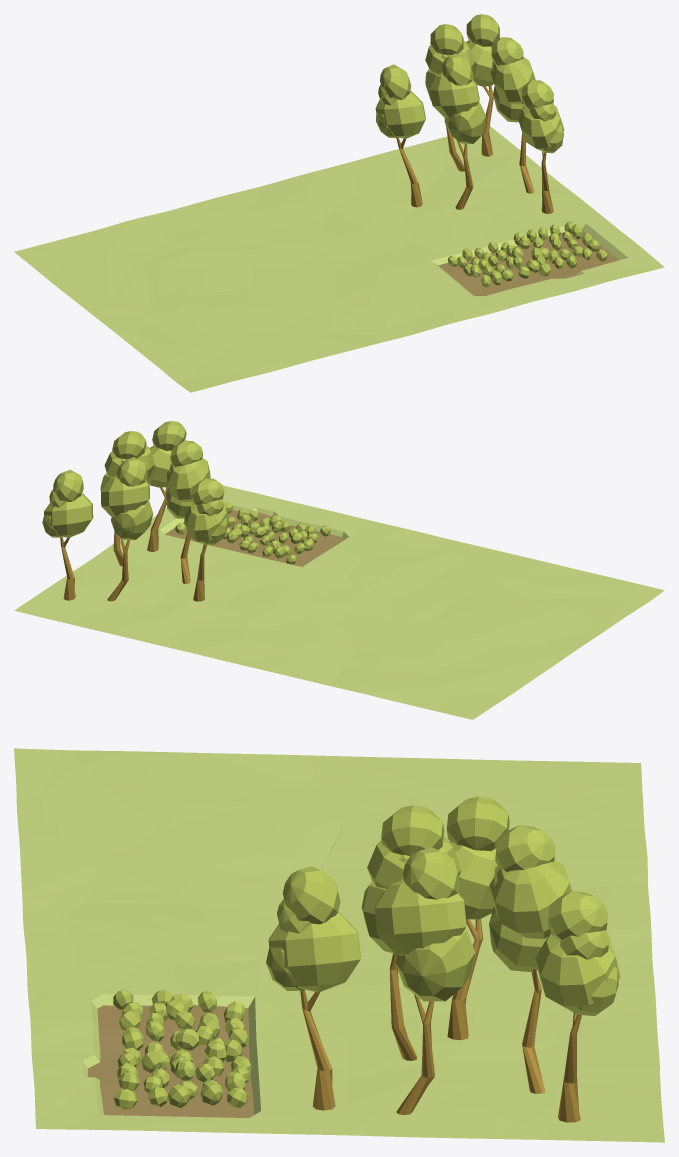
Rendered from garden(with tree).glb.
The picture shows the model from 3 angles, top to bottom: view 1: azimuth 30°, elevation 25°; view 2: azimuth 150°, elevation 25°; view 3: azimuth 270°, elevation 25°; orthographic projection. The views are drawn at different scales.
Visible parts, largest first — view 1: Sphere_1_1; view 2: Sphere_1_1; view 3: Sphere_1_1.
Boxes of the visible parts, box(x1,y1,x2,y2) form: Sphere_1_1: box(14, 14, 664, 392); Sphere_1_1: box(14, 421, 664, 719); Sphere_1_1: box(14, 748, 664, 1142).
Size of the model in its own units: 0.898 by 0.2764 by 0.6211.
